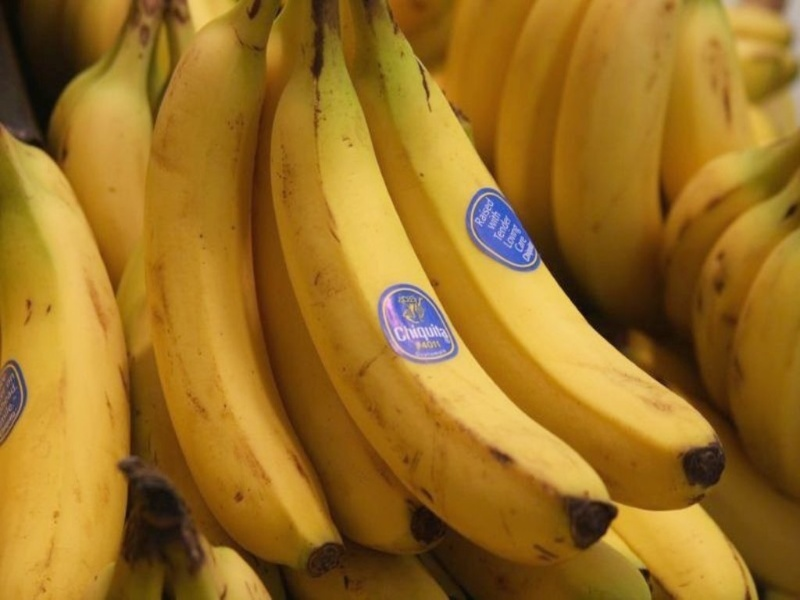banana: (164, 2, 729, 579), (1, 103, 131, 600), (442, 1, 767, 189), (681, 106, 800, 472), (49, 3, 167, 255), (108, 454, 283, 600), (617, 505, 766, 600)
